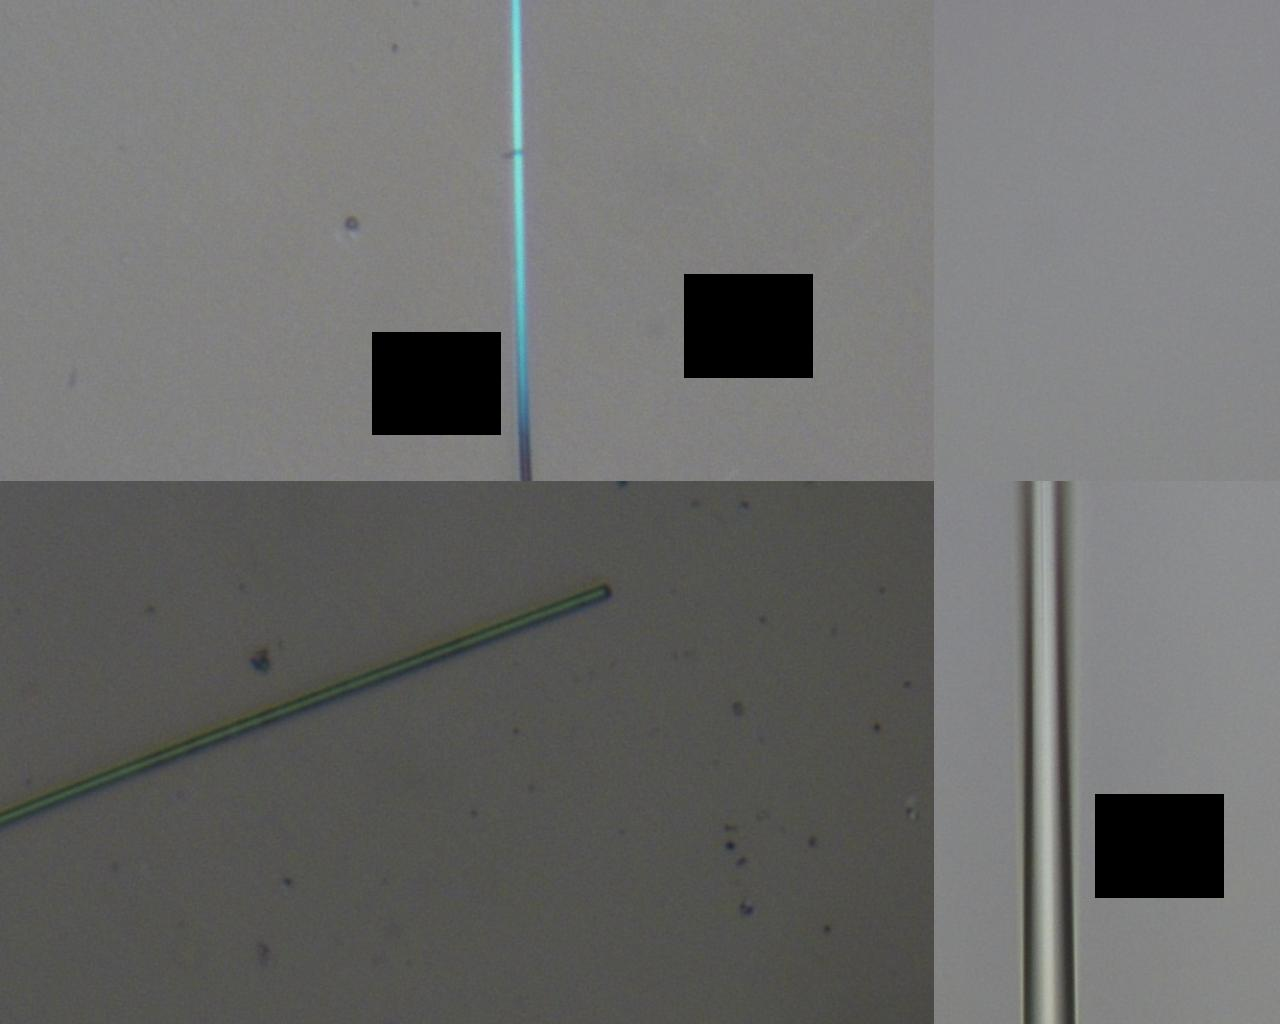fiber: (0, 583, 616, 831), (1022, 481, 1071, 1024), (509, 0, 533, 481)
